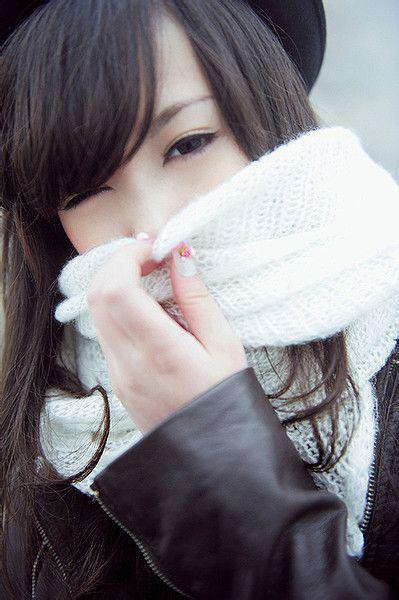WRONG: (47, 87, 298, 338)
